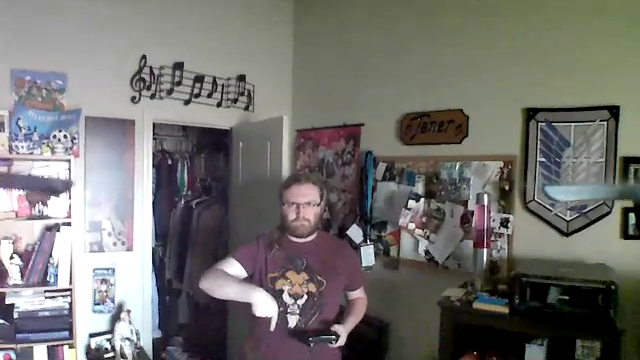down: (248, 283, 281, 339)
